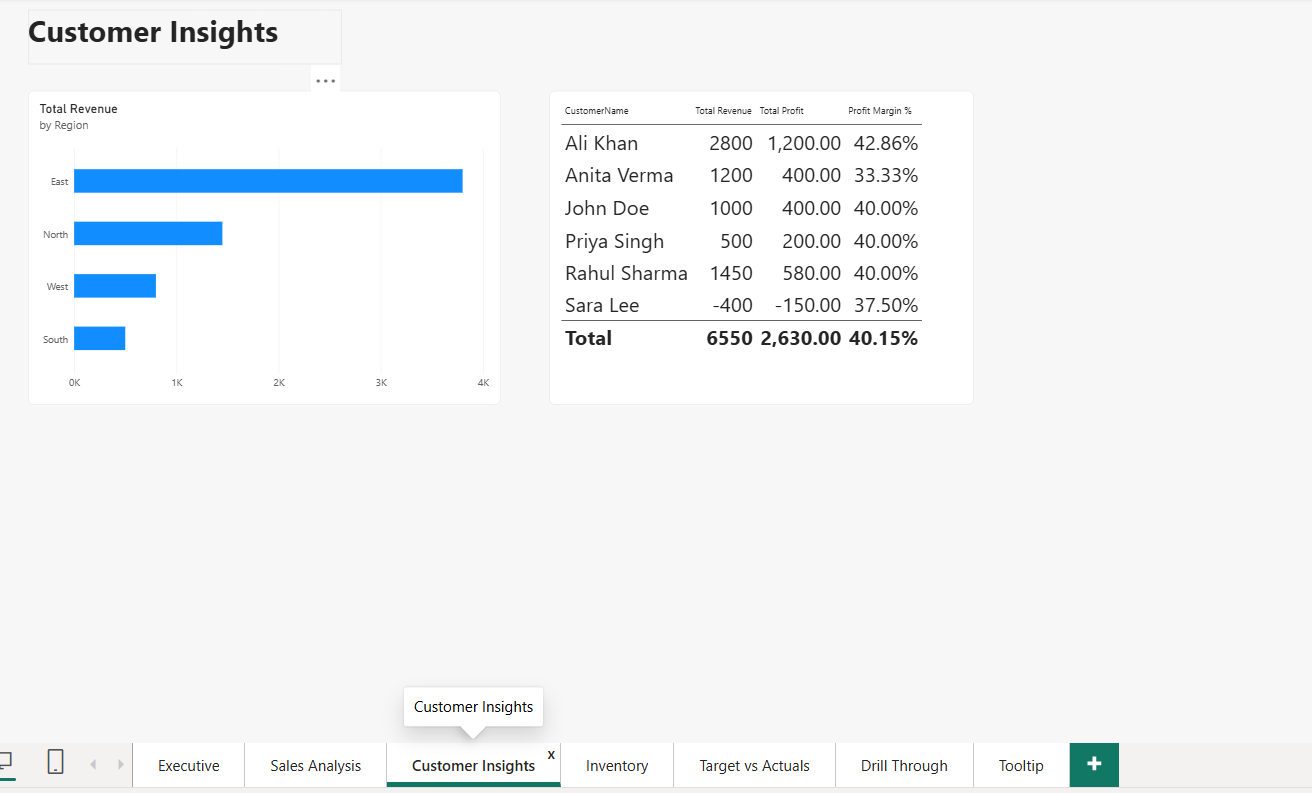

The page's visual inventory and layout, read from the dashboard file:
{"tool":"powerbi","page":{"name":"Customer Insights","canvas":[1920,1080],"ordinal":2},"visuals":[{"type":"clusteredBarChart","fields":{"Category":["Customers.Region"],"Y":["Customers.Total Revenue"]},"box":[44,136,684,454],"z":0},{"type":"tableEx","fields":{"Values":["Customers.CustomerName","Customers.Total Revenue","Customers.Total Profit","Customers.Profit Margin %"]},"box":[798,136,614,454],"z":1000},{"type":"textbox","box":[44,18,454,80],"z":2000}]}

Visuals, with their boxes on the page's 1920x1080 design canvas (x1, y1, x2, y2). These are canvas units, not pixel positions in the 1312x793 screenshot, which may show the page scaled, cropped or inside an application window:
clusteredBarChart - Customers.Region x Customers.Total Revenue: pyautogui.locateOnScreen(44, 136, 728, 590)
tableEx - Customers.CustomerName x Customers.Total Revenue: pyautogui.locateOnScreen(798, 136, 1412, 590)
textbox: pyautogui.locateOnScreen(44, 18, 498, 98)
